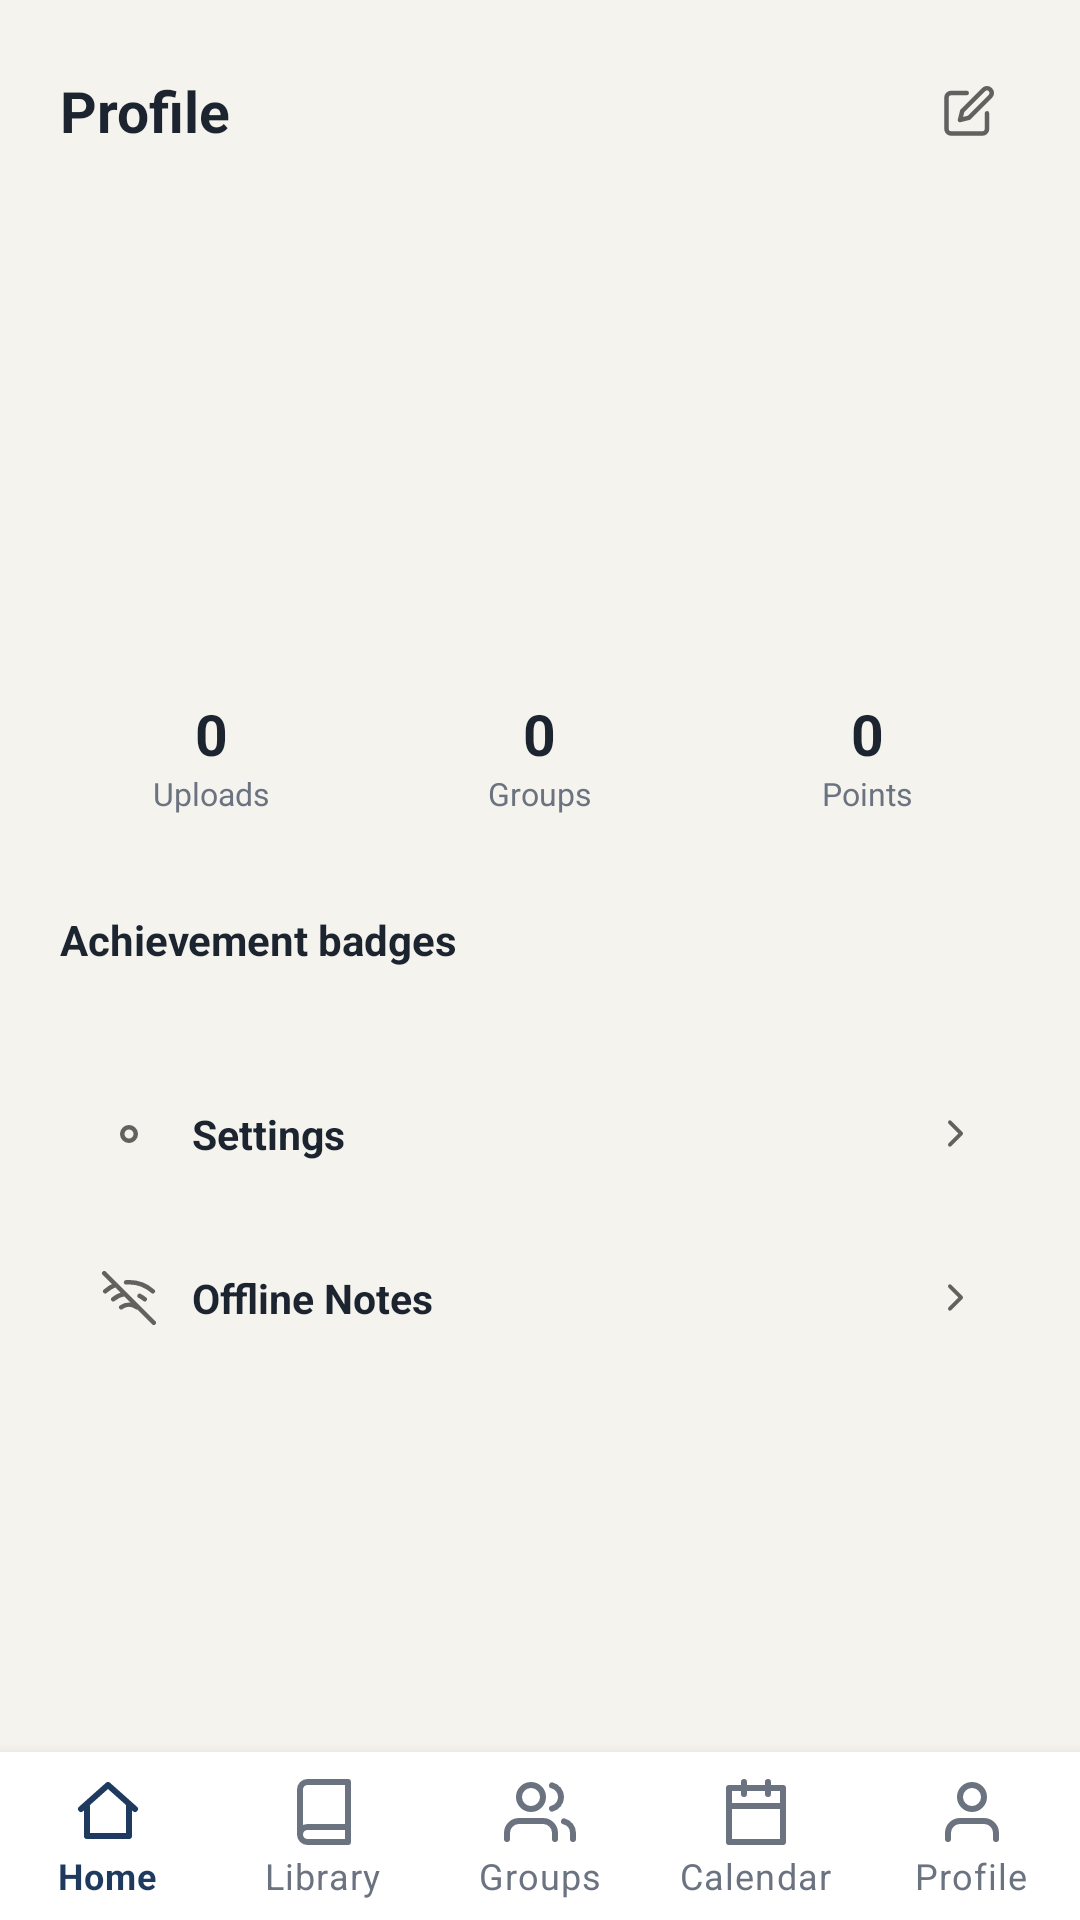

Where to tap for icons on this 1080w x 1920h app screen, as point (x, y):
chevron right: point (955, 1133), point (955, 1297)
edit: point (969, 111)
wifi off: point (129, 1298)
